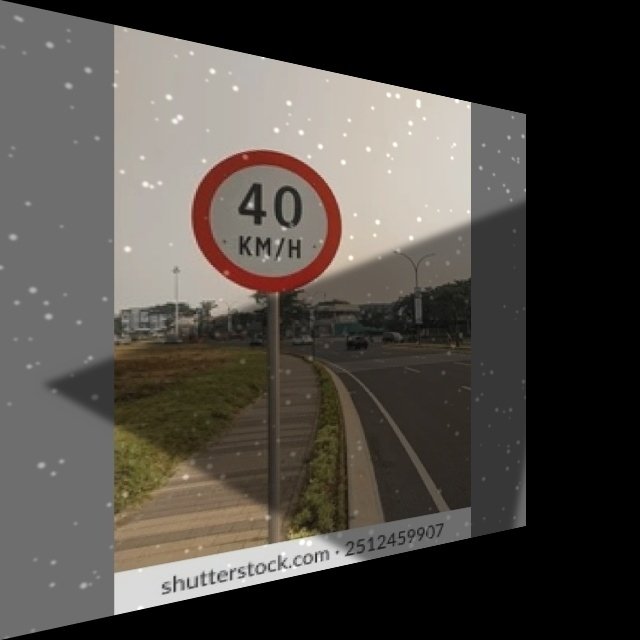Speed_Limit_40: (196, 138, 342, 293)
